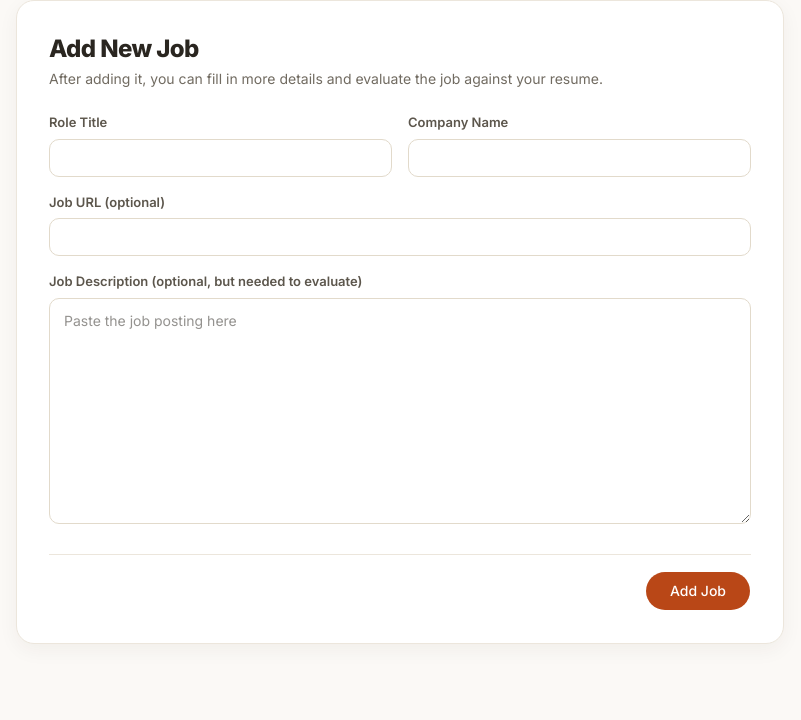
Test: NewJobForm › shows an error and stays on the page when the insert fails
Step 1. Type "Staff Engineer" into the field labelled "Role Title" → [220, 158], box left=49, top=138, right=392, bottom=176
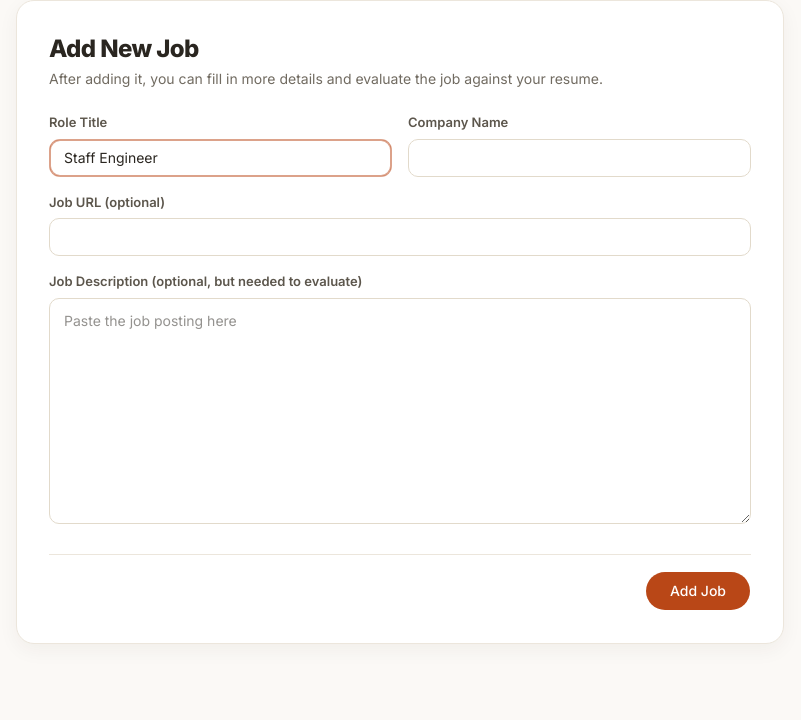
Step 2. Type "Acme" into the field labelled "Company Name" → [580, 158], box left=408, top=138, right=751, bottom=176
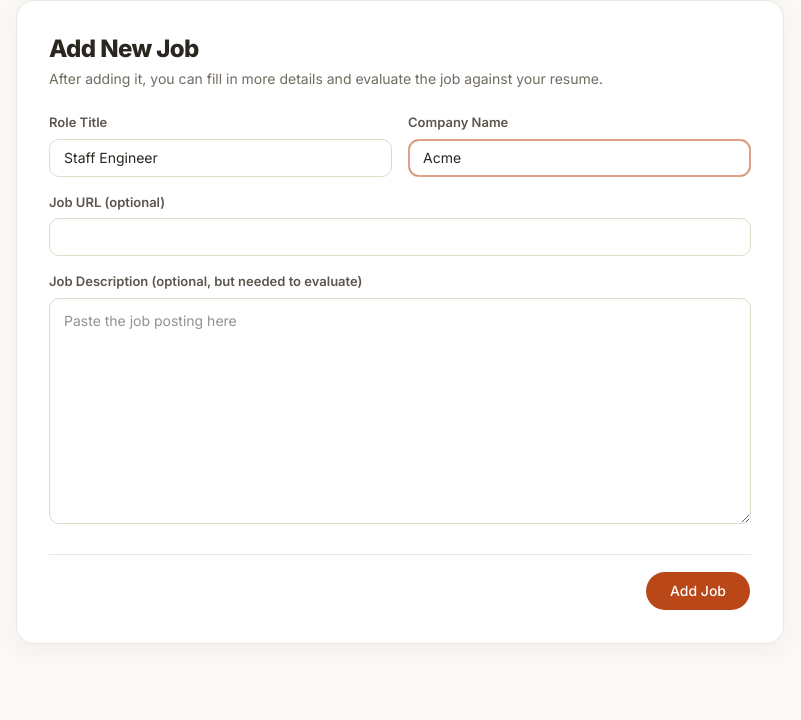
Step 3. Click the button "Add Job" → [698, 590], box left=645, top=570, right=751, bottom=610
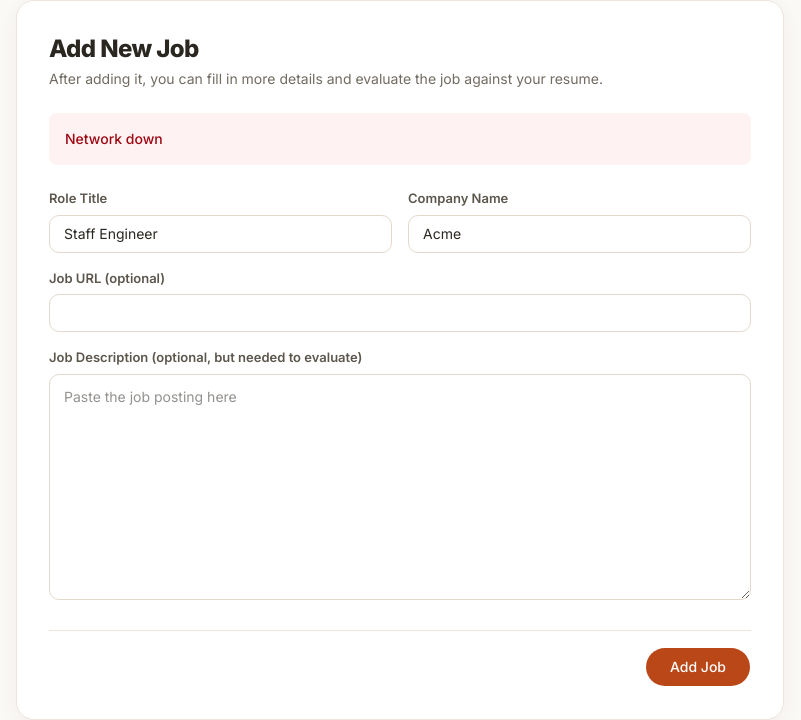
Expected: the button "Add Job" is enabled, left=645, top=646, right=751, bottom=686
Expected: the message reads "Network down", left=65, top=130, right=163, bottom=147
